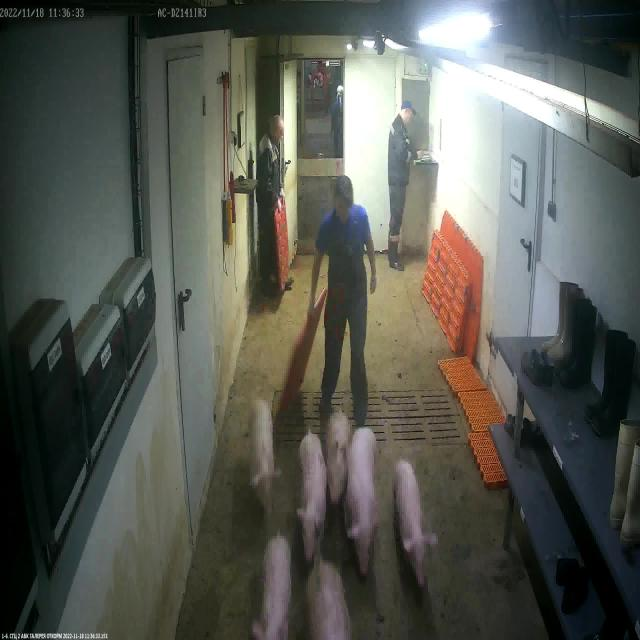pig: (396, 462, 436, 588), (347, 428, 380, 580), (250, 536, 292, 640), (297, 431, 326, 568), (309, 561, 352, 640), (251, 401, 278, 517), (326, 411, 354, 508)
